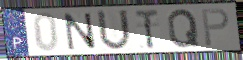0: (31, 12, 61, 53)
N: (62, 12, 99, 51)
P: (200, 7, 231, 48)
Q: (167, 8, 201, 50)
T: (133, 8, 160, 50)
U: (95, 9, 133, 53)
